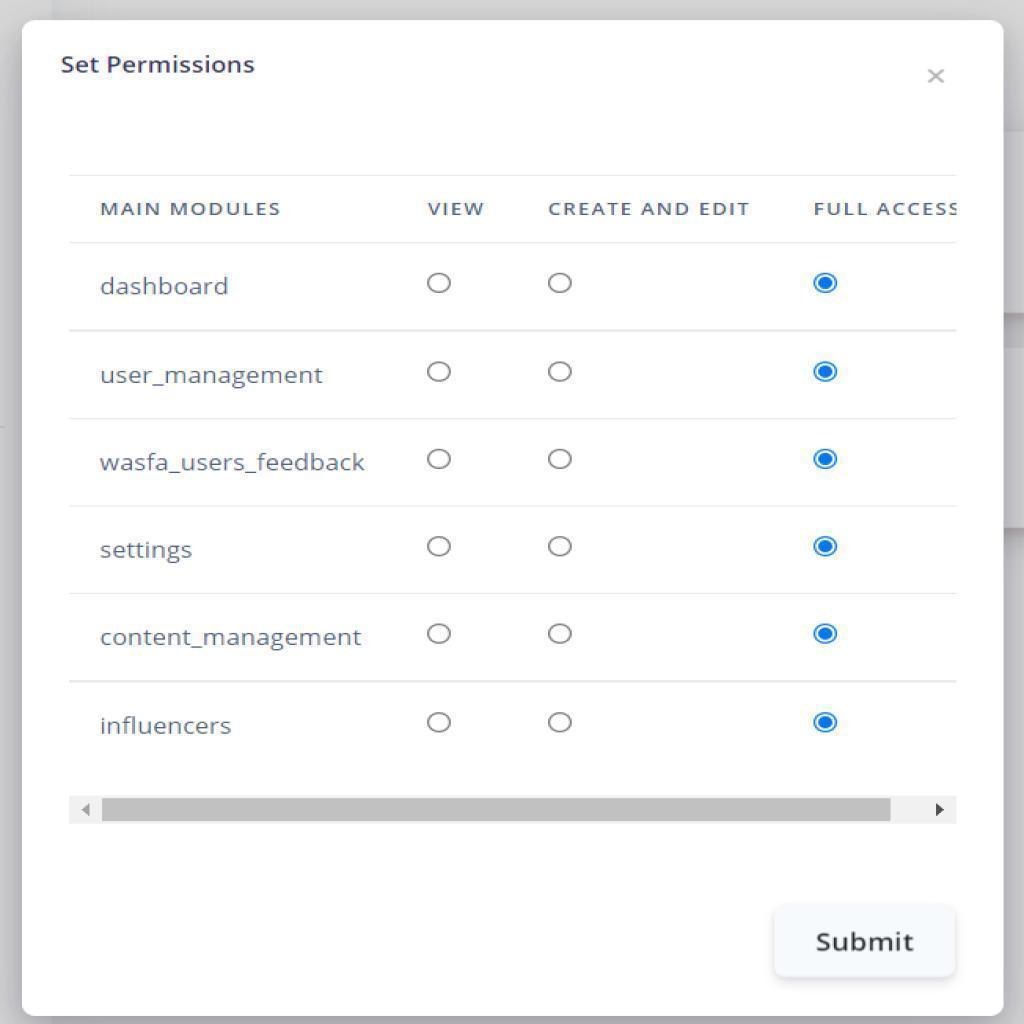button: (775, 904, 955, 978)
radio: (425, 617, 458, 650), (424, 444, 457, 476), (808, 530, 841, 562), (543, 359, 578, 388), (542, 706, 578, 734), (811, 445, 843, 475), (810, 620, 842, 650), (424, 533, 455, 563), (810, 709, 842, 738), (810, 358, 841, 387), (423, 269, 456, 296), (544, 532, 574, 560), (545, 270, 576, 297), (810, 269, 841, 295), (545, 446, 574, 473), (424, 708, 454, 734), (546, 620, 576, 645), (423, 361, 454, 385)
